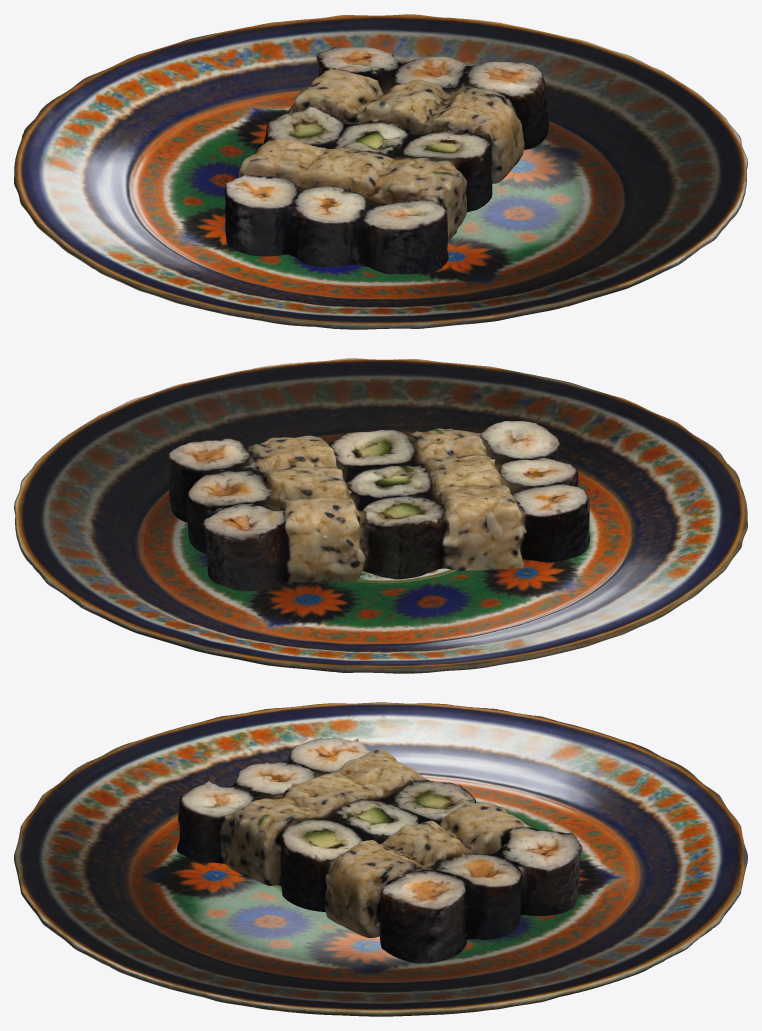
The model's file is sushi.rapid.glb.
The picture shows the model from 3 angles, top to bottom: view 1: azimuth 30°, elevation 25°; view 2: azimuth 150°, elevation 25°; view 3: azimuth 270°, elevation 25°; orthographic projection.
Parts seen in each view (by area): view 1: Plate, Sushi; view 2: Plate, Sushi; view 3: Plate, Sushi.
Part boxes in pixels (<box>): Plate: <box>14,14,747,329</box>; Sushi: <box>225,46,548,274</box>; Plate: <box>14,358,747,673</box>; Sushi: <box>168,421,589,591</box>; Plate: <box>14,702,747,1016</box>; Sushi: <box>177,737,582,963</box>.
Bounding box in the file's own units: 0.2002 × 0.0225 × 0.2003.
Materials: 2 (2 with a texture image).
